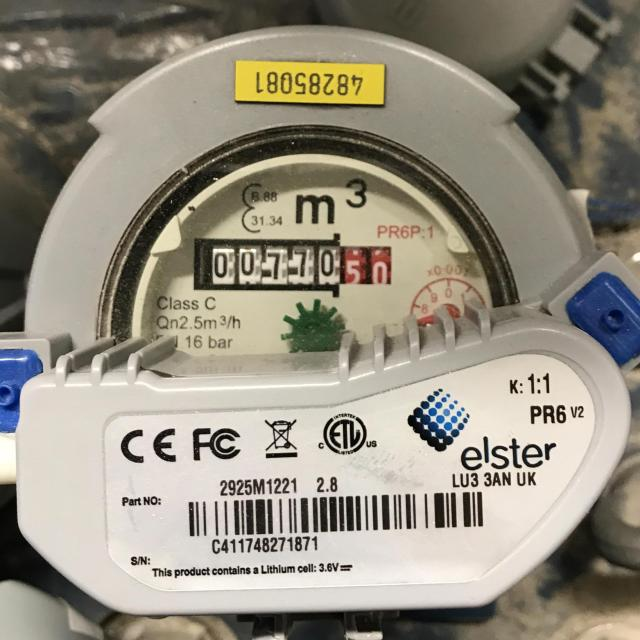gaz_meter: (117, 128, 508, 375)
indication: (200, 239, 393, 292)
